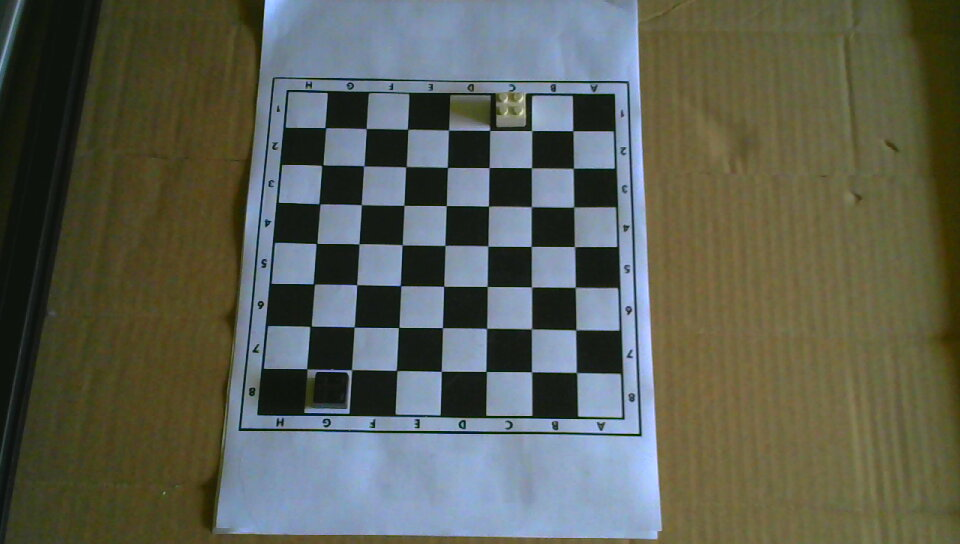bp: (312, 370, 350, 410)
wp: (494, 90, 527, 128)
